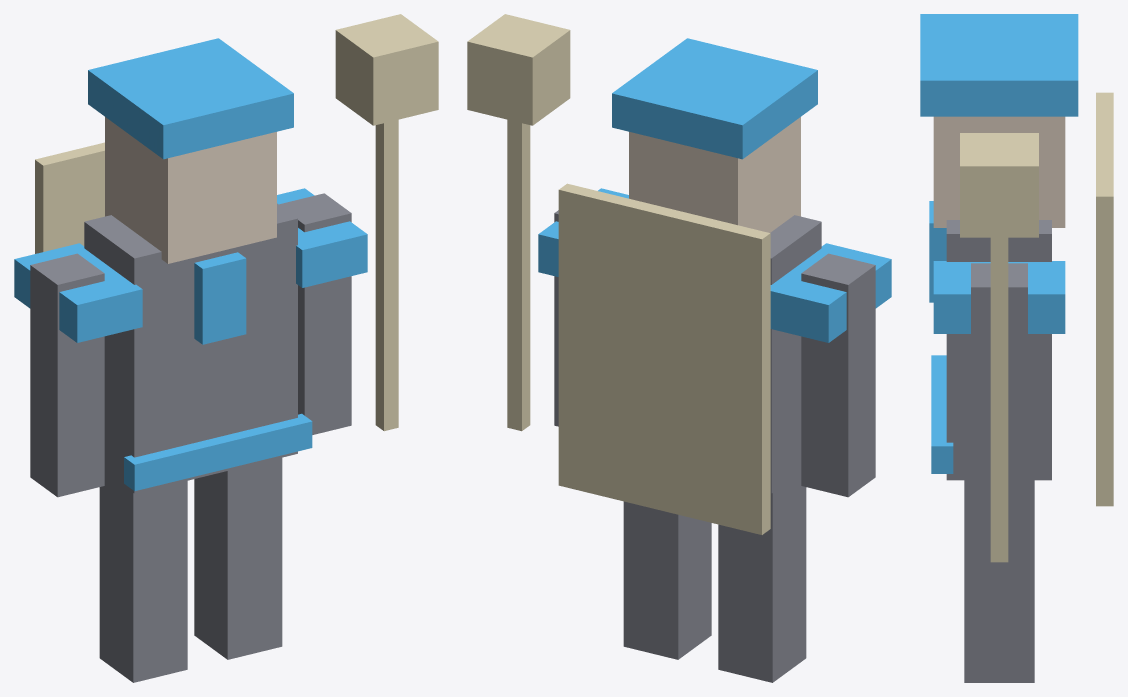
The model's file is 13_astra_brightlock_operator_at_vehicle.glb.
The picture shows the model from 3 angles, left to right: view 1: azimuth 30°, elevation 25°; view 2: azimuth 150°, elevation 25°; view 3: azimuth 270°, elevation 25°; orthographic projection. The views are drawn at different scales.
Visible parts, largest first — view 1: Astra Brightlock, Operator at Vehicle; view 2: Astra Brightlock, Operator at Vehicle; view 3: Astra Brightlock, Operator at Vehicle.
Boxes of the visible parts, x1,y1,x2,y2 form: Astra Brightlock, Operator at Vehicle: [14, 14, 438, 682]; Astra Brightlock, Operator at Vehicle: [467, 14, 891, 682]; Astra Brightlock, Operator at Vehicle: [920, 14, 1113, 682].
Size of the model in its own units: 1.08 by 1.57 by 0.4594.
